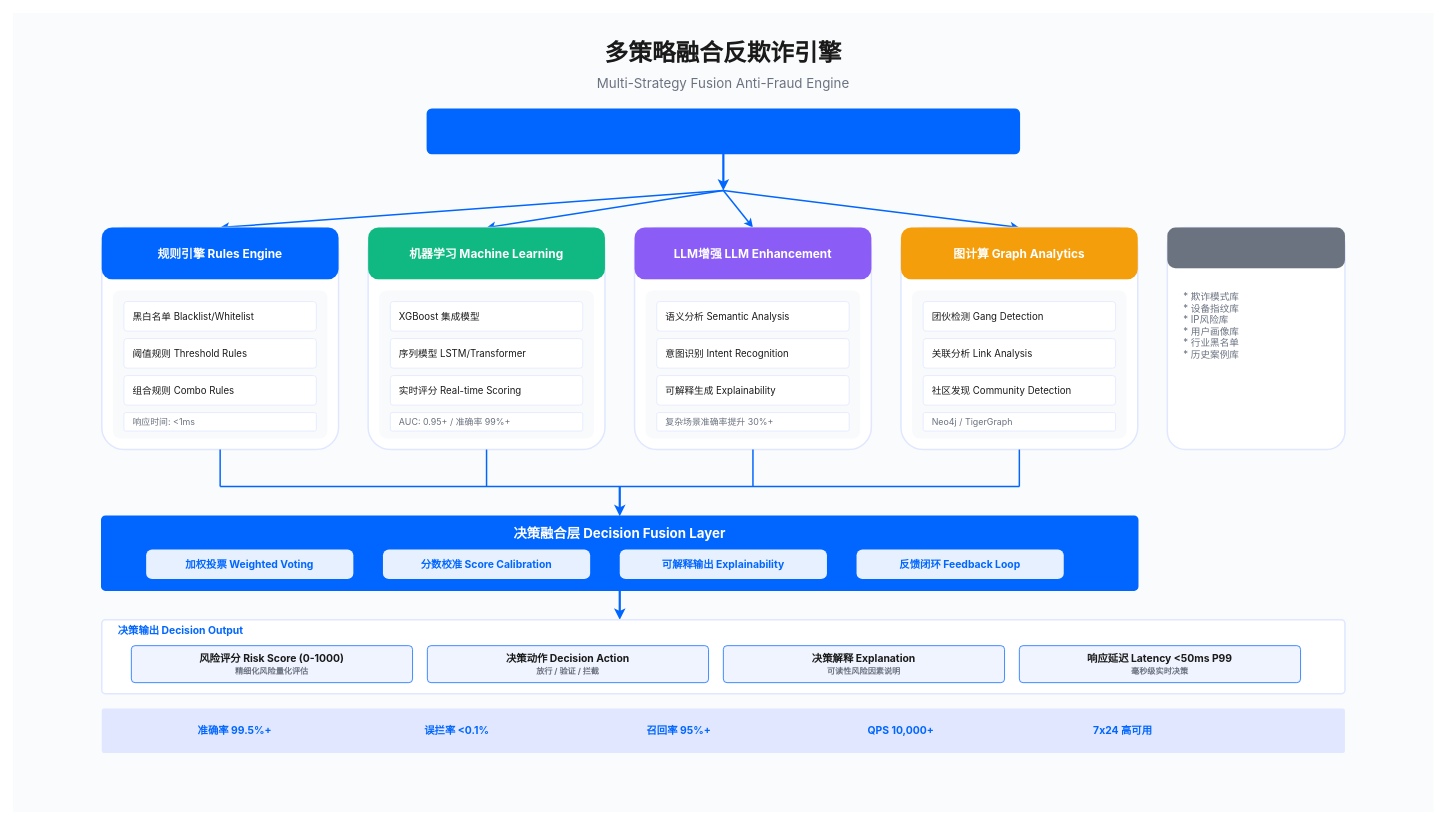
This 1446x824 diagram has some shape labels left out. Each missing label, with the centre of its shape:
"交易请求 Transaction Request" goes at pixel 723 131.
"知识库 Knowledge" goes at pixel 1256 247.
